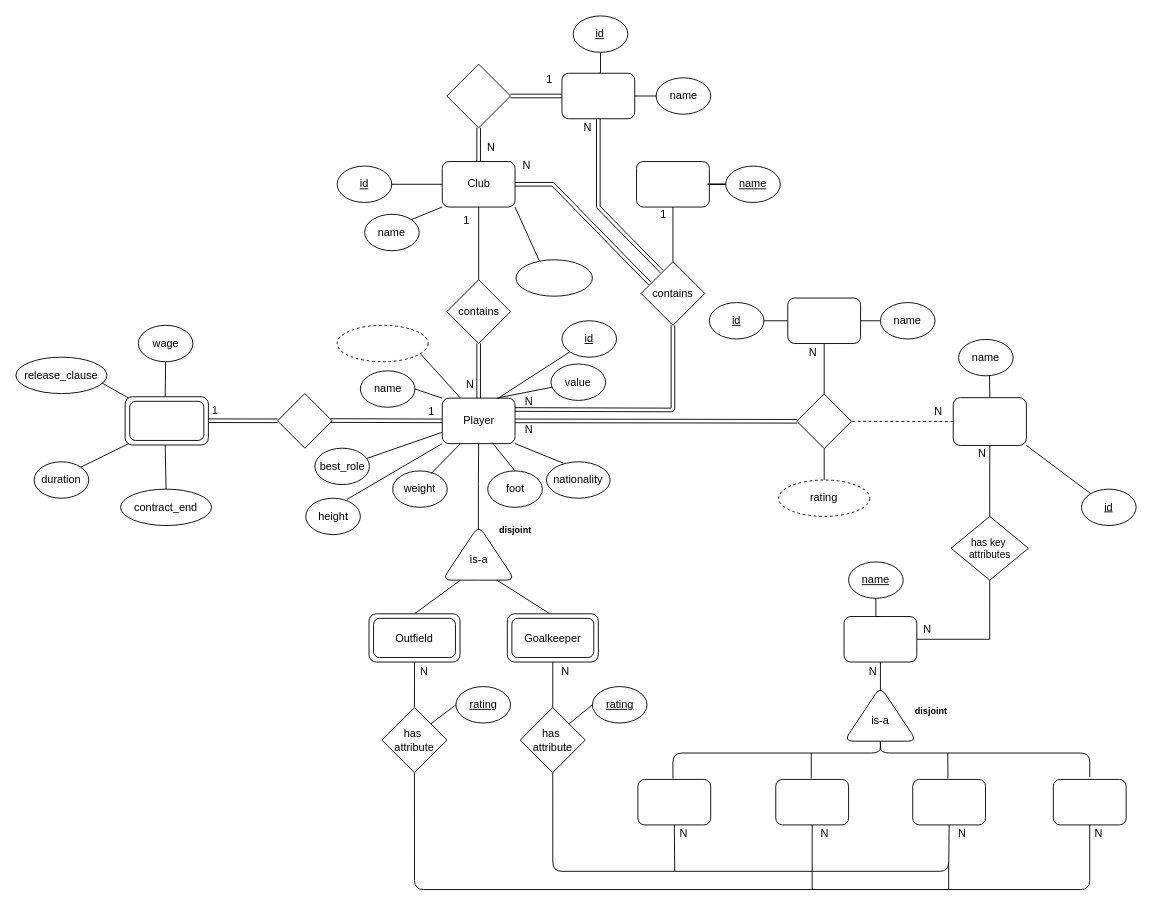
This 1152x906 diagram has some shape labels left out. Each missing label, with the centre of its shape:
"age" belongs at (x=382, y=343).
"Attribute" belongs at (x=880, y=639).
"can play" belongs at (x=823, y=421).
"Contract" belongs at (x=166, y=420).
"founded_date" belongs at (x=553, y=277).
"Goalkeeping" belongs at (x=674, y=802).
"has a" belongs at (x=304, y=420).
"League" belongs at (x=598, y=95).
"Mental" belongs at (x=949, y=802).
"Nation" belongs at (x=672, y=184).
"Physical" belongs at (x=812, y=802).
"plays in" belongs at (x=478, y=95).
"Position" belongs at (x=824, y=320).
"Role" belongs at (x=989, y=421).
"Tehcnical" belongs at (x=1089, y=802).
